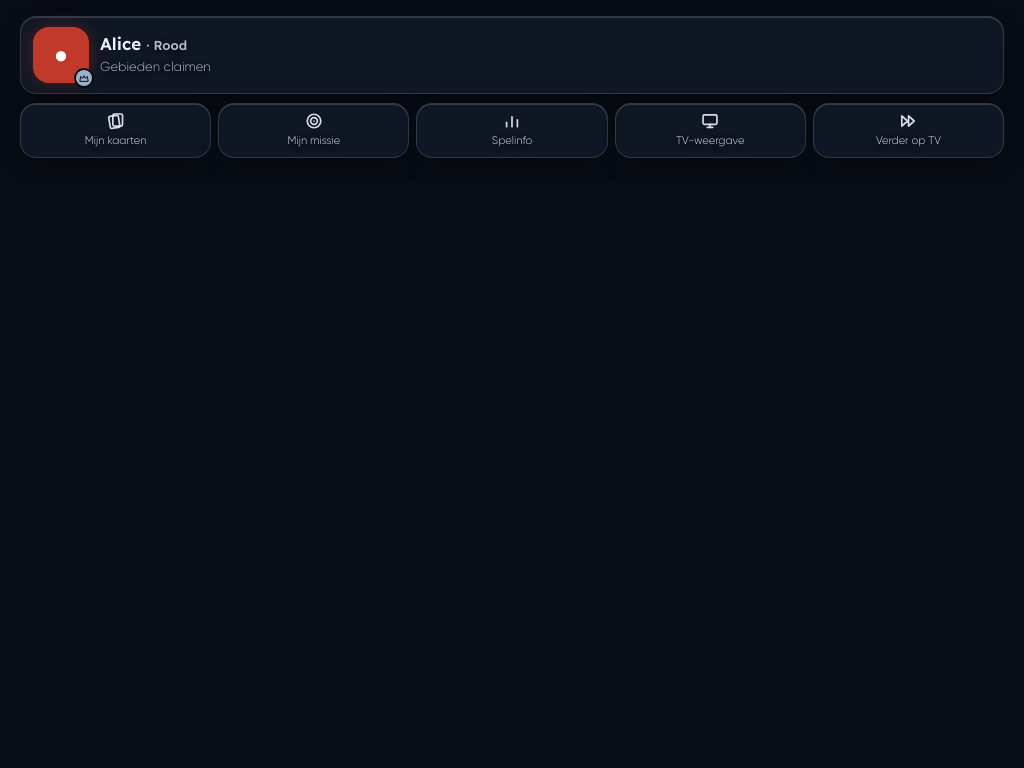
PhonePlayerHeader › opent het missiepaneel via de actieknop wanneer de speler een missie heeft
Click the button "Mijn missie": (314, 130) [219, 104, 408, 157]
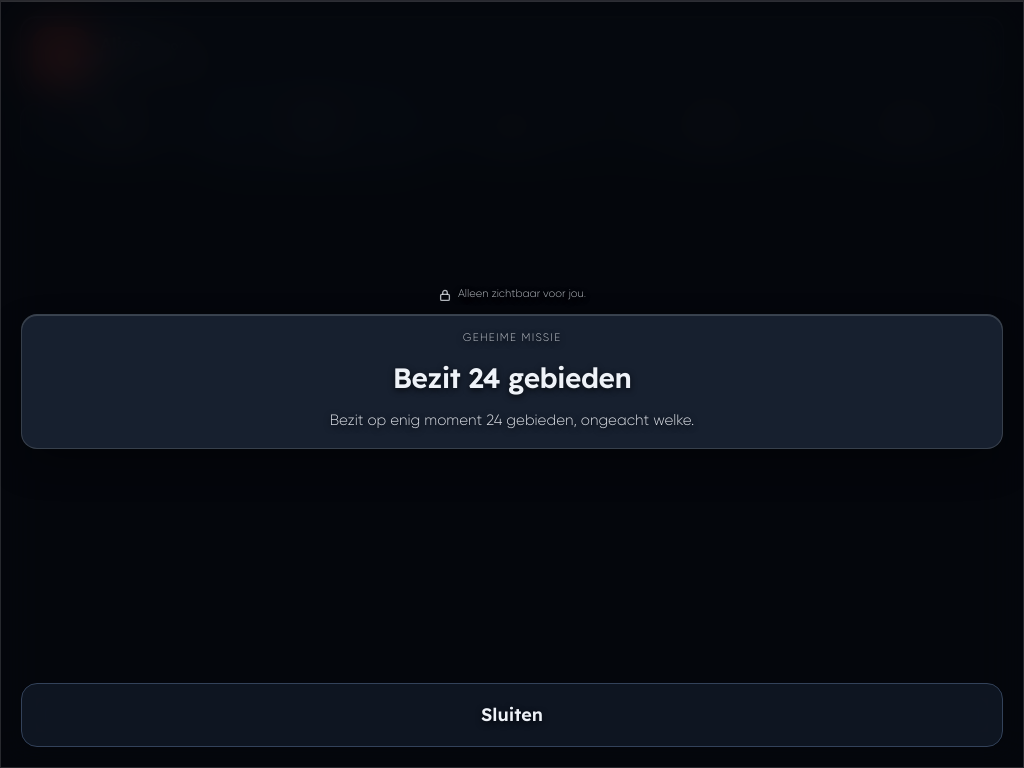
Result: the heading "Bezit 24 gebieden" is shown at [393, 360, 631, 394]
